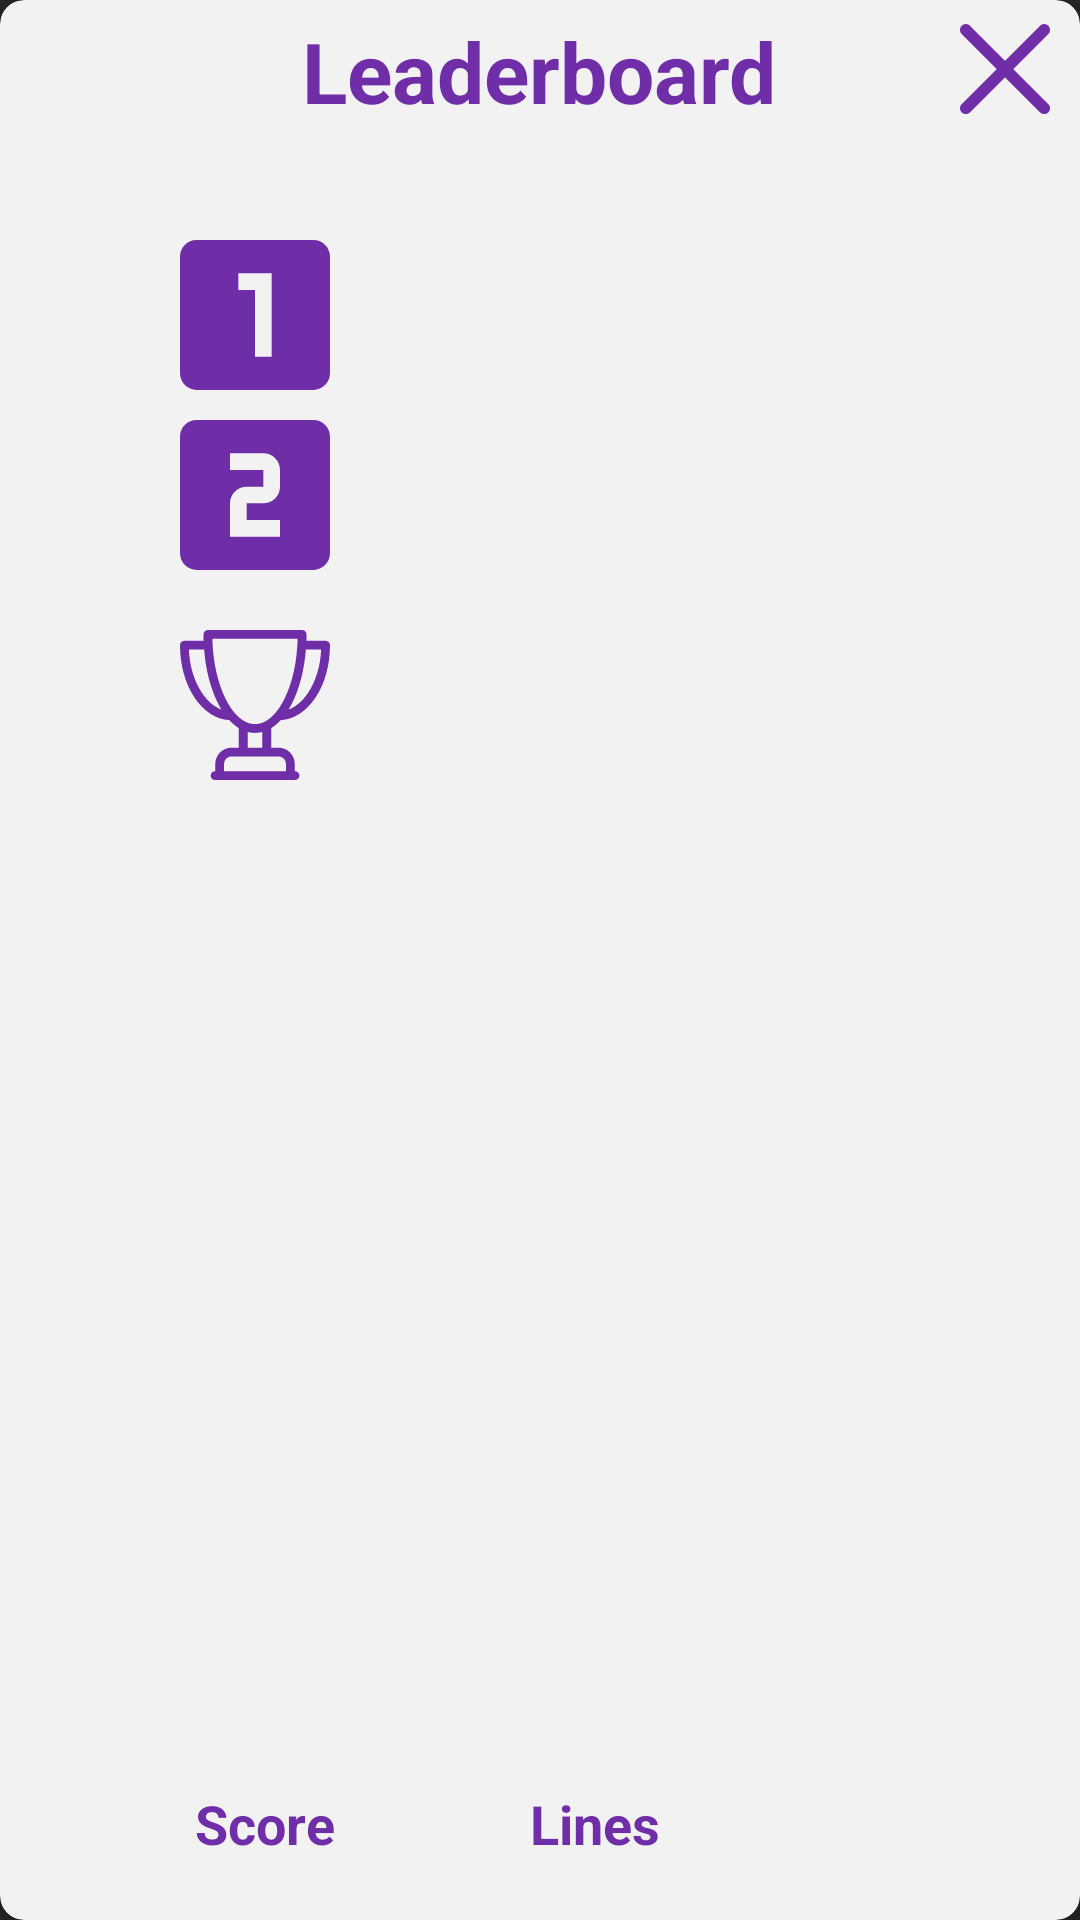

Where icons sit on this 1080x1920 app screen, as BBox(x1, y1, x2, y2):
close: BBox(960, 24, 1050, 114)
one line: BBox(180, 240, 330, 390)
trophy: BBox(180, 630, 330, 780)
two line: BBox(180, 420, 330, 570)
